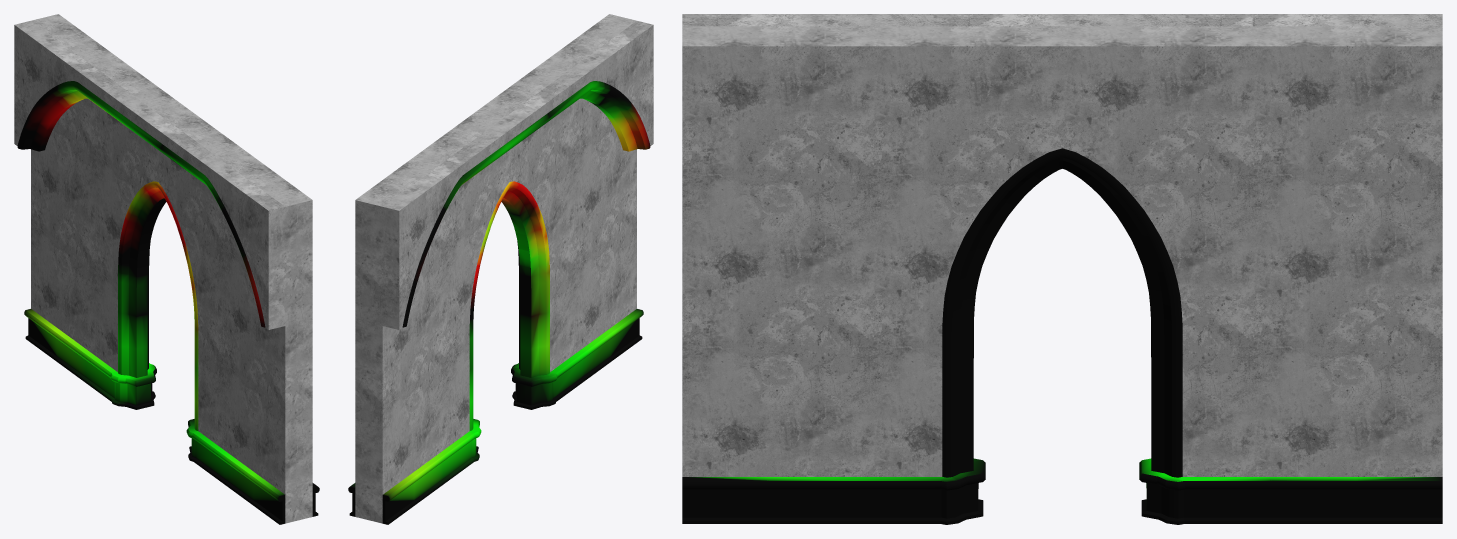
The model's file is SM_BalconyGate_01a.fbx.
The picture shows the model from 3 angles, left to right: view 1: azimuth 30°, elevation 25°; view 2: azimuth 150°, elevation 25°; view 3: azimuth 270°, elevation 25°; orthographic projection. The views are drawn at different scales.
Parts seen in each view (by area): view 1: SM_BalconyGate_01a_LOD0; view 2: SM_BalconyGate_01a_LOD0; view 3: SM_BalconyGate_01a_LOD0.
Boxes of the visible parts, left/top/right/bottom form: SM_BalconyGate_01a_LOD0: left=14, top=14, right=319, bottom=524; SM_BalconyGate_01a_LOD0: left=348, top=14, right=653, bottom=524; SM_BalconyGate_01a_LOD0: left=682, top=14, right=1442, bottom=524.
Size of the model in its own units: 198 by 1600 by 1100.
